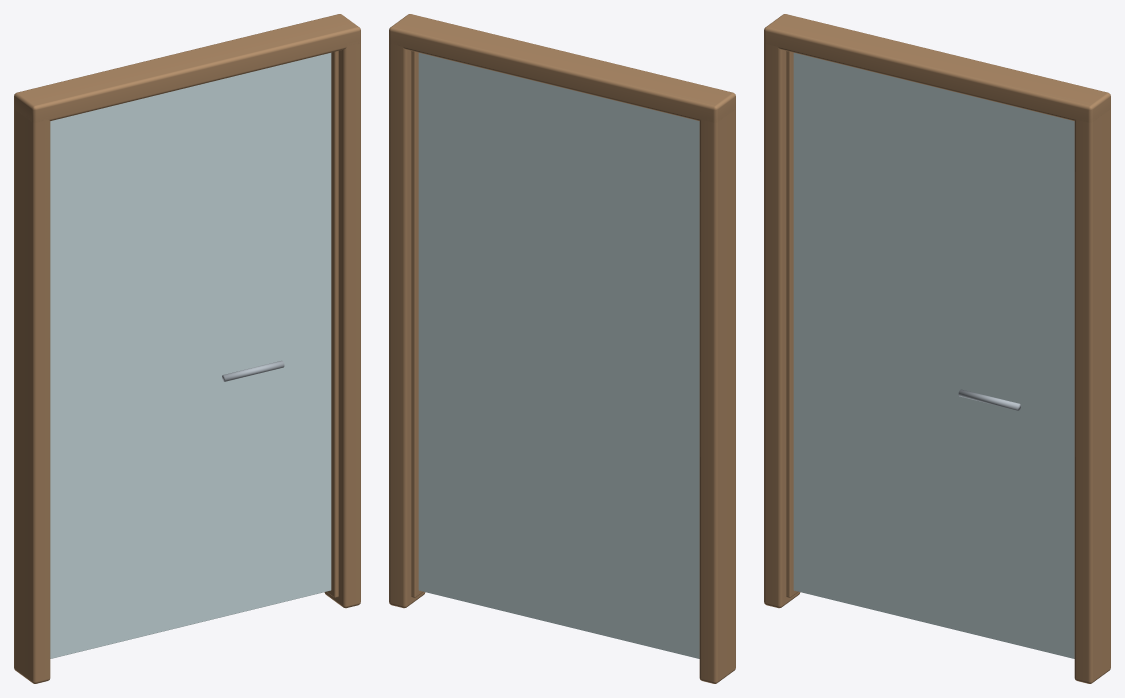
File: atelier-glass-door.glb
3 renders of one model, left to right at view 1: azimuth 30°, elevation 25°; view 2: azimuth 150°, elevation 25°; view 3: azimuth 330°, elevation 25°, orthographic.
Visible parts, largest first — view 1: glass.026, legs.247; view 2: glass.026, legs.247; view 3: glass.026, legs.247.
Boxes of the visible parts, <box> form: glass.026: <box>50,53,331,658</box>; legs.247: <box>14,14,360,683</box>; glass.026: <box>418,53,699,658</box>; legs.247: <box>389,14,735,683</box>; glass.026: <box>793,53,1074,658</box>; legs.247: <box>764,14,1110,683</box>.
Bounding box in the file's own units: 1.27 × 2.13 × 0.14.
